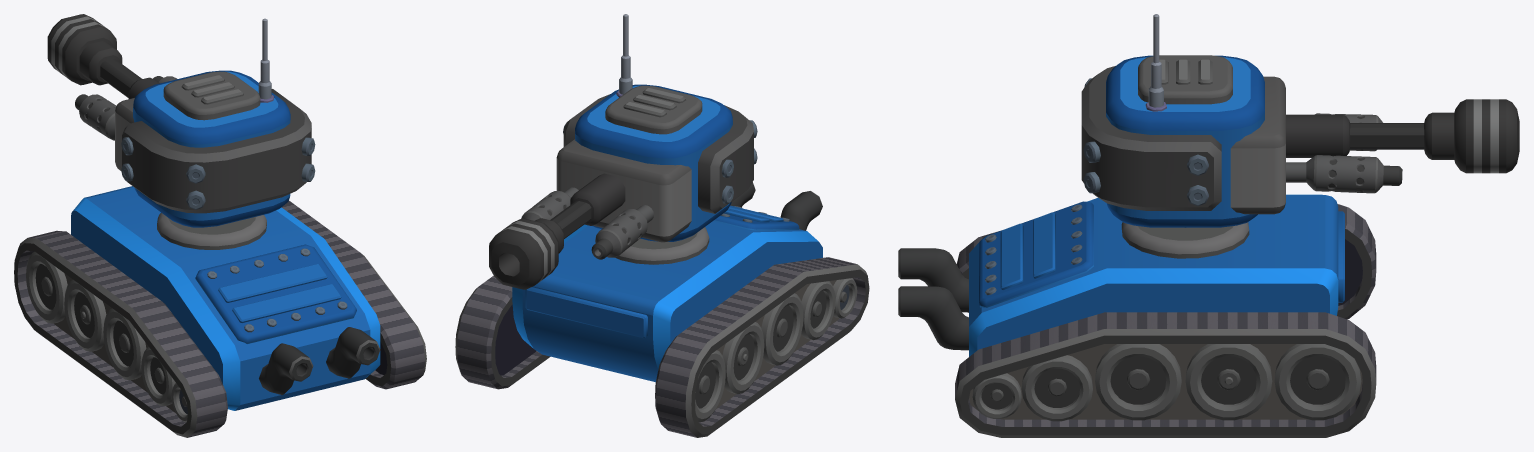
The model's file is Tank_2_D.fbx.
3 views of the same model, side by side, from view 1: azimuth 30°, elevation 25°; view 2: azimuth 150°, elevation 25°; view 3: azimuth 270°, elevation 25° (orthographic). The views are drawn at different scales.
Visible parts, largest first — view 1: Tank_2_D, Tank_2_D_T, Tank_2_D_P, Tank_2_D_L; view 2: Tank_2_D, Tank_2_D_T, Tank_2_D_P, Tank_2_D_L, Tank_2_D_R; view 3: Tank_2_D, Tank_2_D_T, Tank_2_D_P, Tank_2_D_R.
Part boxes in pixels (box(x1,y1,x2,y2)): Tank_2_D: box(14, 186, 426, 437); Tank_2_D_T: box(115, 18, 315, 249); Tank_2_D_P: box(47, 14, 159, 98); Tank_2_D_L: box(75, 94, 116, 140); Tank_2_D: box(455, 182, 869, 437); Tank_2_D_T: box(556, 14, 757, 264); Tank_2_D_P: box(489, 173, 625, 289); Tank_2_D_L: box(591, 205, 653, 259); Tank_2_D_R: box(521, 187, 578, 220); Tank_2_D: box(898, 194, 1376, 437); Tank_2_D_T: box(1081, 14, 1285, 258); Tank_2_D_P: box(1286, 99, 1519, 173); Tank_2_D_R: box(1286, 155, 1402, 193).
Bounding box in the file's own units: 273 × 365 × 538.
